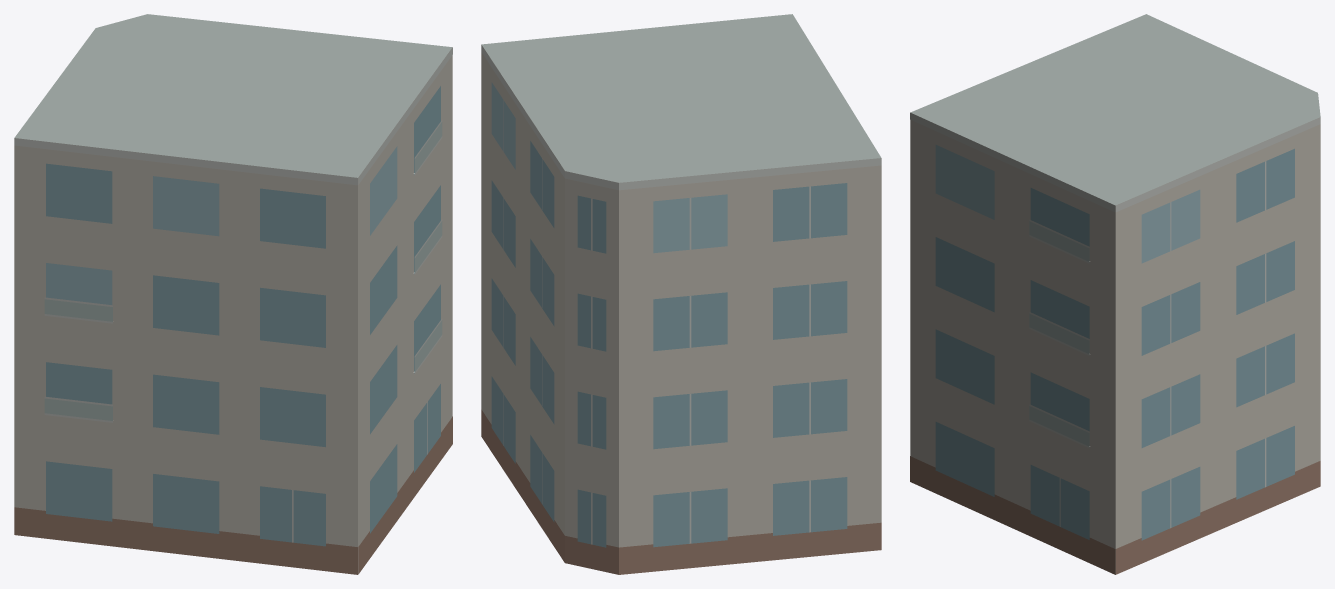
Rendered from survey-upis-32718080.glb.
3 views of the same model, side by side, from view 1: azimuth 30°, elevation 25°; view 2: azimuth 150°, elevation 25°; view 3: azimuth 270°, elevation 25° (orthographic). The views are drawn at different scales.
Visible parts, largest first — view 1: survey-upis-32718080.tmp; view 2: survey-upis-32718080.tmp; view 3: survey-upis-32718080.tmp.
Part boxes in pixels (box(x1,y1,x2,y2)): survey-upis-32718080.tmp: box(14, 14, 452, 574); survey-upis-32718080.tmp: box(481, 14, 881, 574); survey-upis-32718080.tmp: box(910, 14, 1320, 574).
Bounding box in the file's own units: 14.24 × 12.8 × 12.9.
